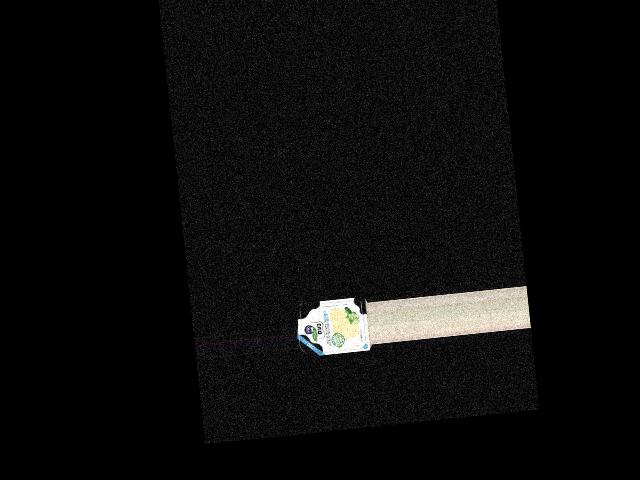cheese: (294, 293, 373, 360)
